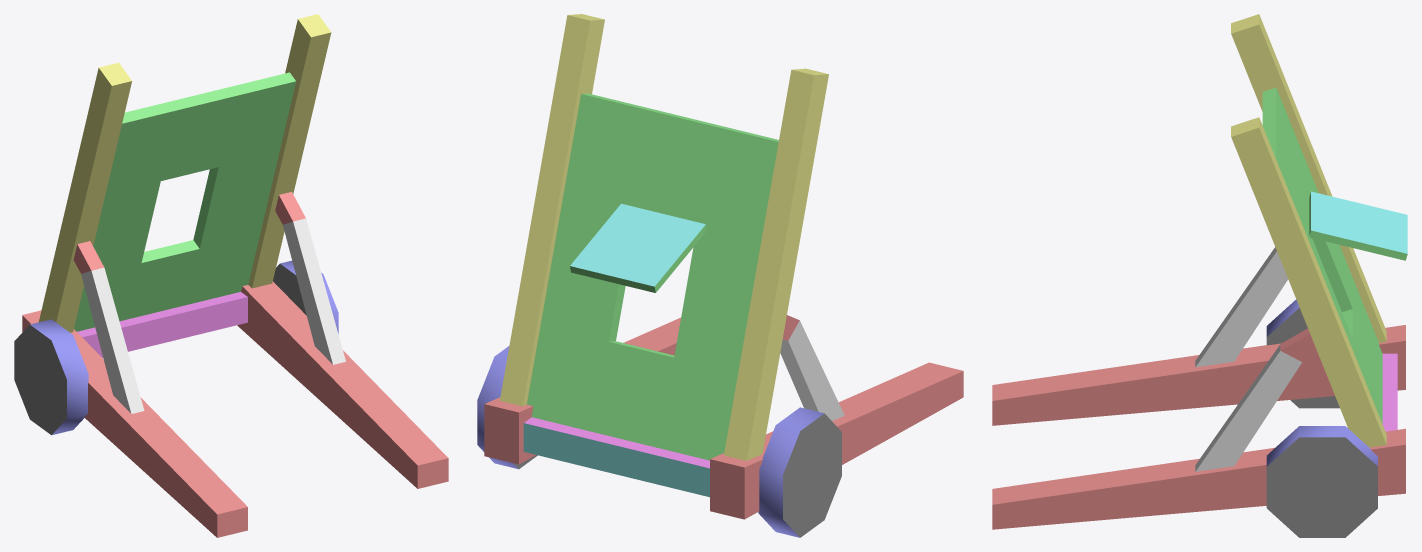
Rendered from Old_War_s__barricade05.gltf.
The picture shows the model from 3 angles, left to right: view 1: azimuth 30°, elevation 25°; view 2: azimuth 150°, elevation 25°; view 3: azimuth 270°, elevation 25°; orthographic projection. The views are drawn at different scales.
Visible parts, largest first — view 1: barricade05; view 2: barricade05; view 3: barricade05.
Boxes of the visible parts, x1=… form: barricade05: x1=14, y1=14, x2=448, y2=537; barricade05: x1=477, y1=14, x2=963, y2=537; barricade05: x1=992, y1=14, x2=1407, y2=537.
Size of the model in its own units: 0.8026 by 1.06 by 1.
